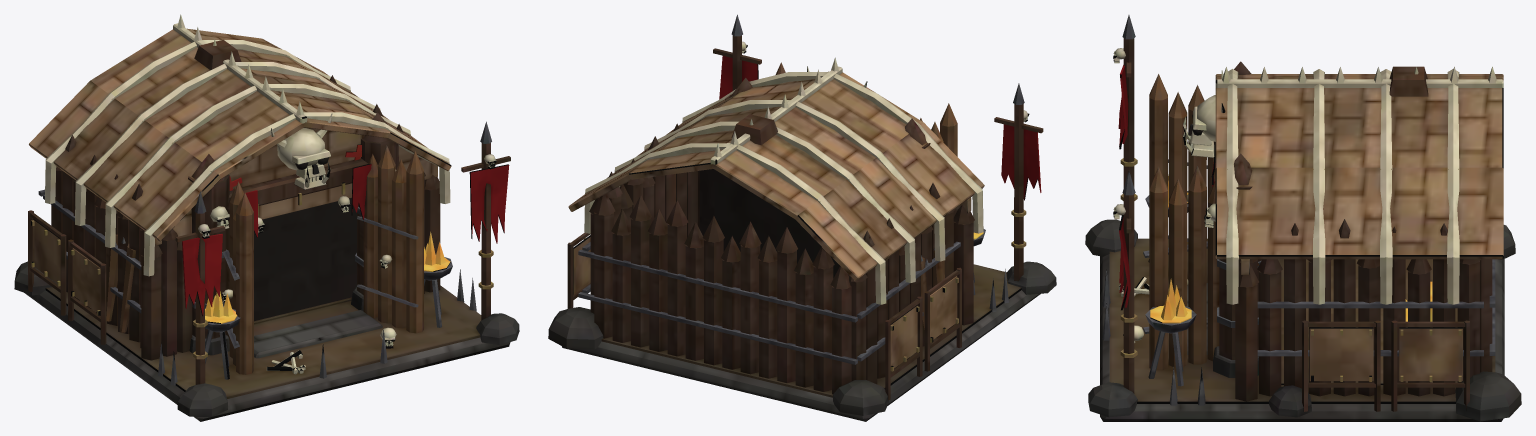
The model's file is ogre_den.glb.
The picture shows the model from 3 angles, left to right: view 1: azimuth 30°, elevation 25°; view 2: azimuth 150°, elevation 25°; view 3: azimuth 270°, elevation 25°; orthographic projection. The views are drawn at different scales.
Parts seen in each view (by area): view 1: Static_Mesh, Anim_Banners; view 2: Static_Mesh, Anim_Banners; view 3: Static_Mesh, Anim_Banners.
Part boxes in pixels (box(x1,y1,x2,y2)): Static_Mesh: box(14, 14, 519, 421); Anim_Banners: box(182, 163, 509, 316); Static_Mesh: box(548, 14, 1056, 421); Anim_Banners: box(719, 56, 1041, 200); Static_Mesh: box(1085, 15, 1521, 421); Anim_Banners: box(1118, 65, 1215, 310).
Size of the model in its own units: 7.88 by 5.36 by 7.8.
2 materials, 2 textured.
